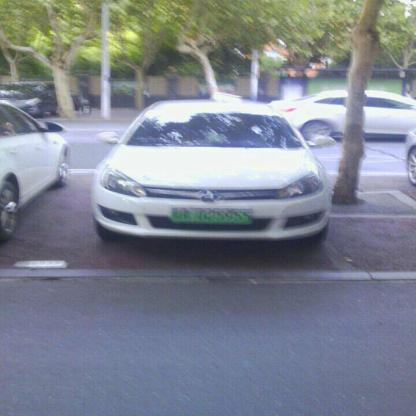lp: (172, 208, 253, 225)
